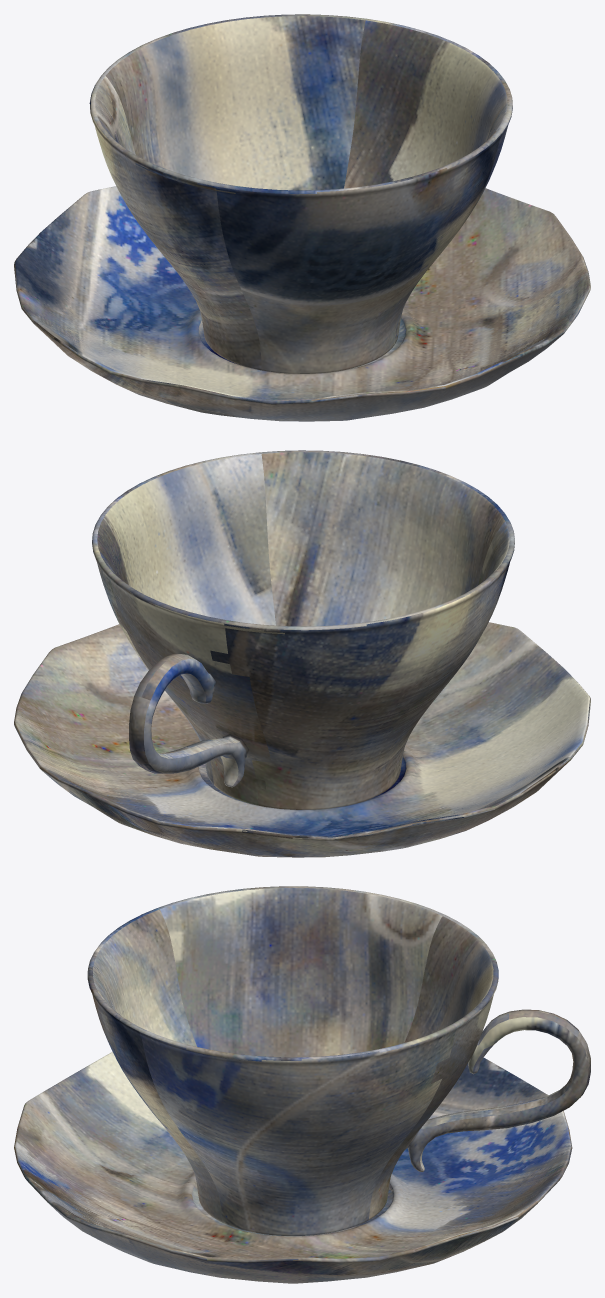
3 views of the same model, one above another, from view 1: azimuth 30°, elevation 25°; view 2: azimuth 150°, elevation 25°; view 3: azimuth 270°, elevation 25° (orthographic). The views are drawn at different scales.
Parts seen in each view (by area): view 1: texture_v100.006; view 2: texture_v100.006; view 3: texture_v100.006.
Boxes of the visible parts, x1,y1,x2,y2 form: texture_v100.006: (14, 14, 590, 421); texture_v100.006: (14, 450, 590, 857); texture_v100.006: (14, 886, 590, 1283).
Size of the model in its own units: 1.95 by 0.945 by 2.
Materials: 1 (1 with a texture image).
